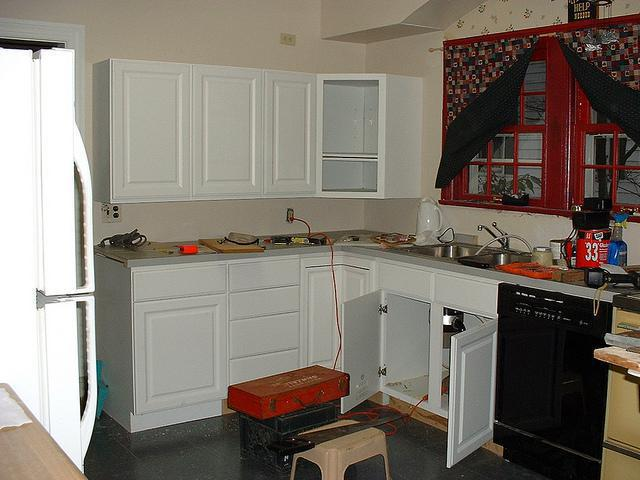Lavaplatos: (396, 212, 539, 280)
